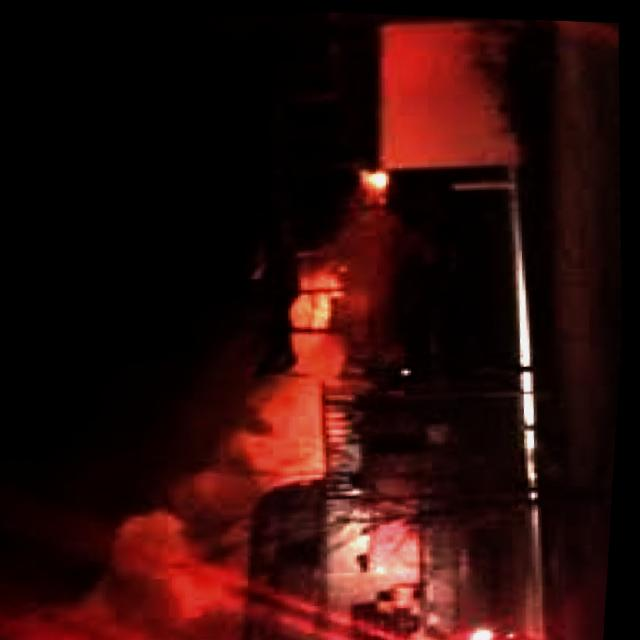no_helmet: (53, 283, 392, 640)
